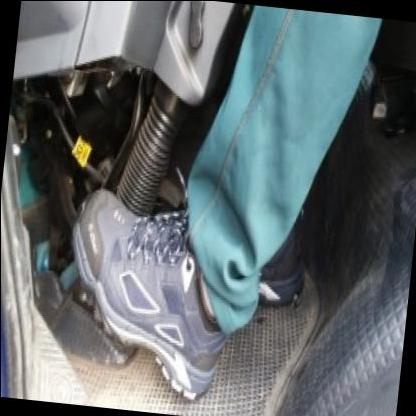safety-shoe: (42, 168, 245, 412)
